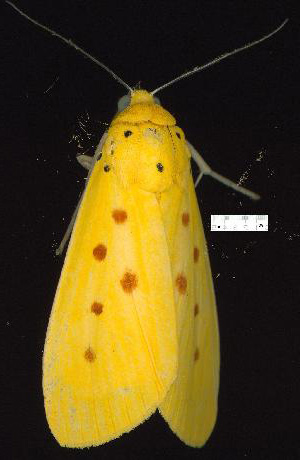Agape chloropyga: (5, 1, 296, 452)
moth: (7, 2, 298, 454)
